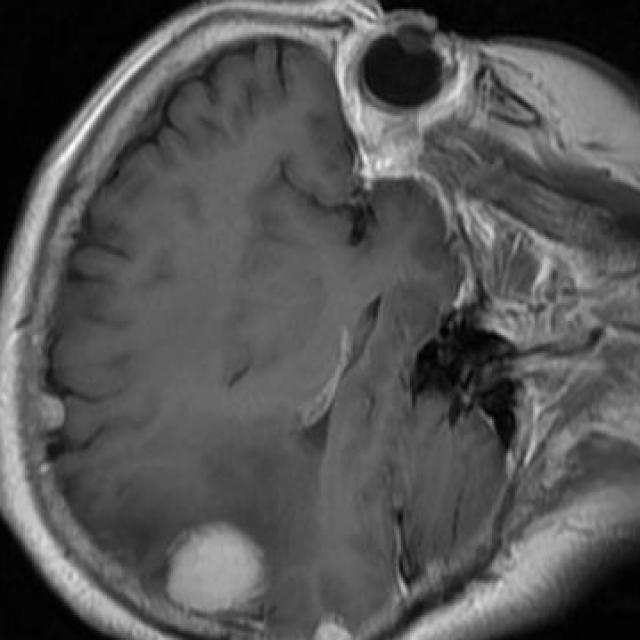meningioma: (166, 524, 264, 611)
